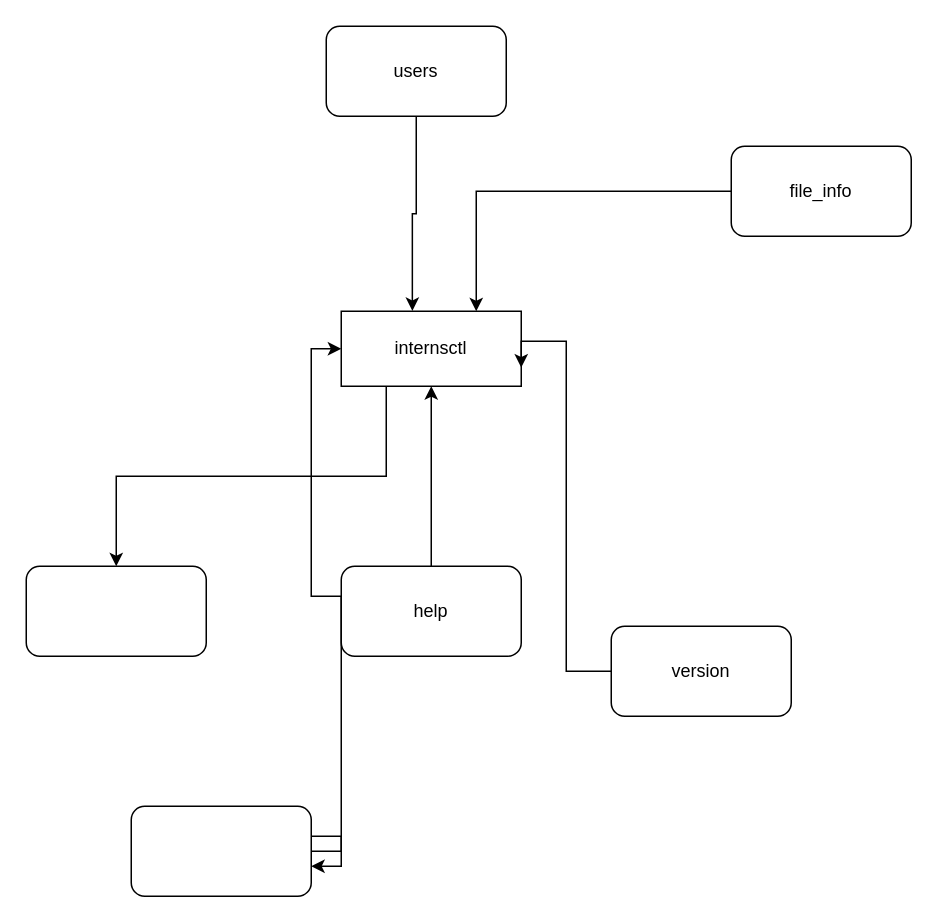
Image size: 938x923. Some labels were removed from this diagram. Each missing label, with the centre of its shape:
"info" goes at pixel 220 850.
"manual" goes at pixel 115 610.
